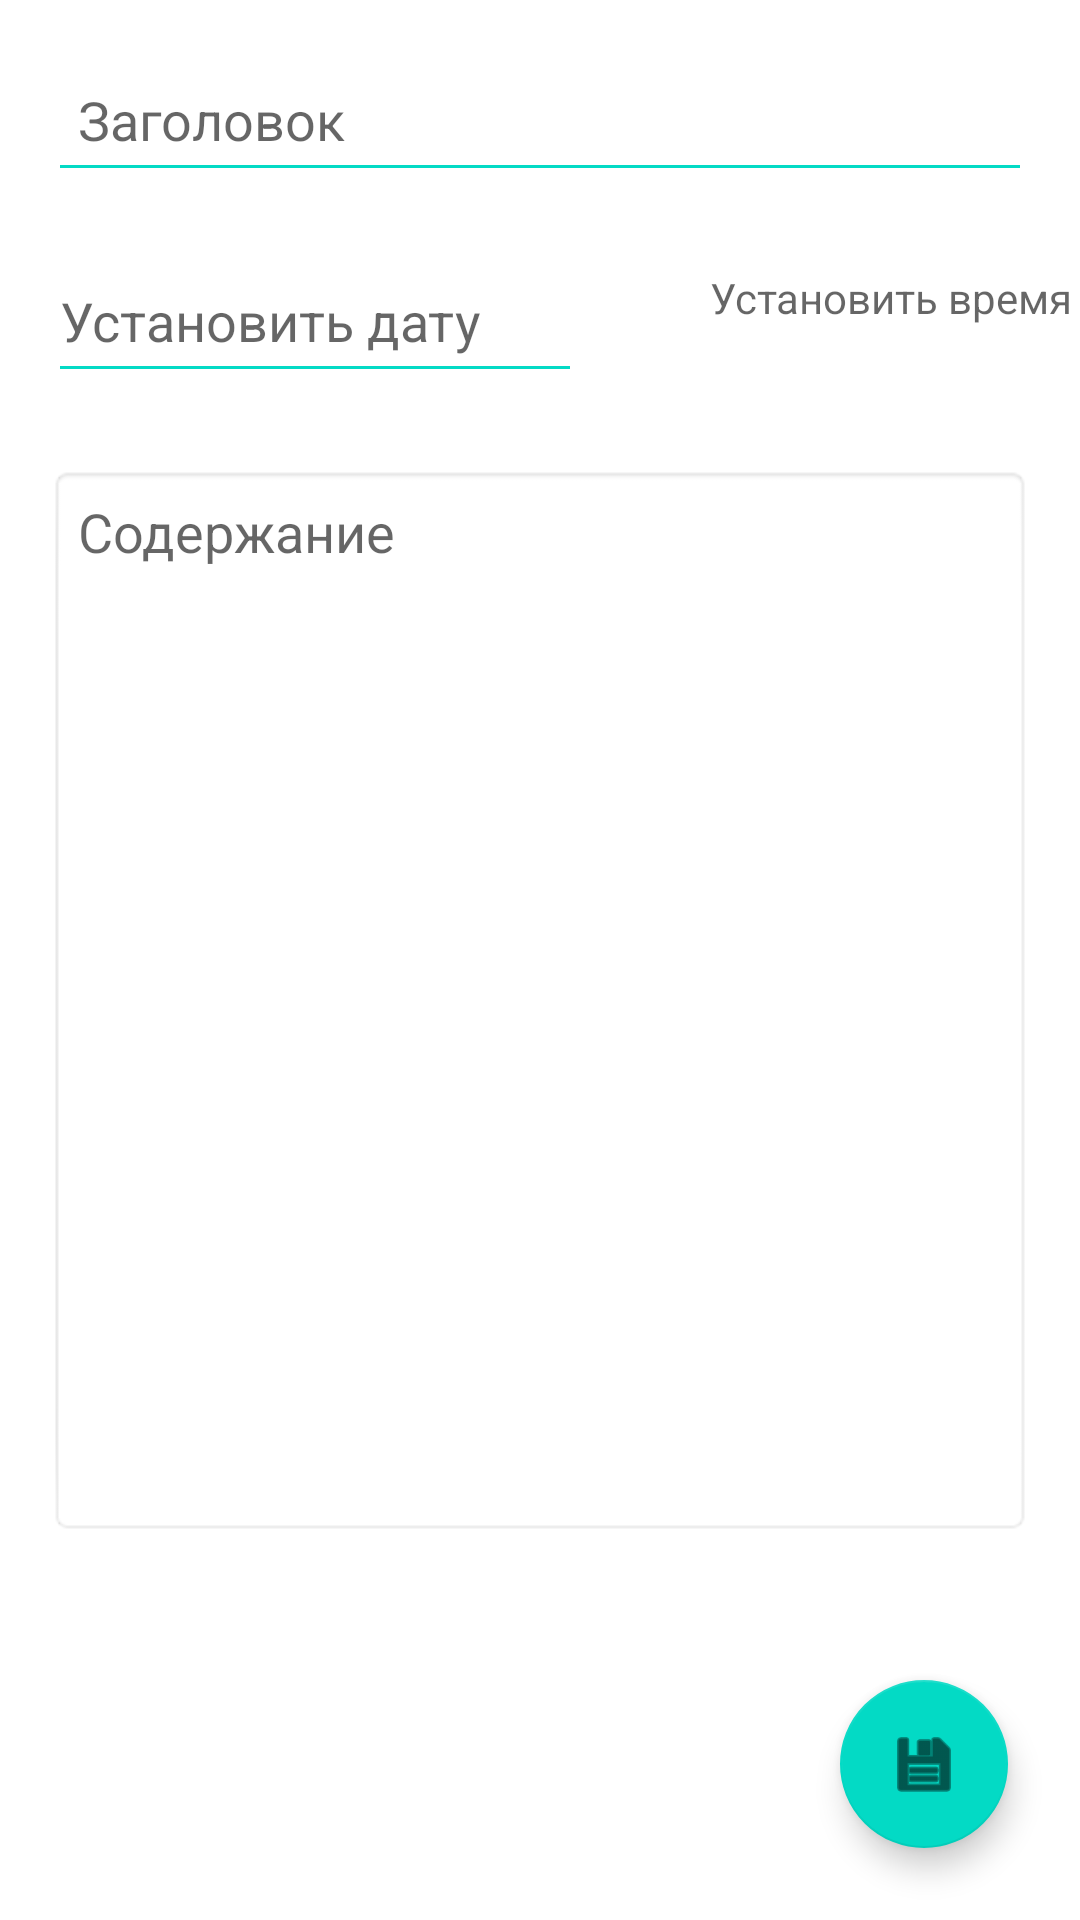

Point at icon controls on the screen. Image size 1080×1920, points as (x=x, y=y).
save: (x=924, y=1764)
